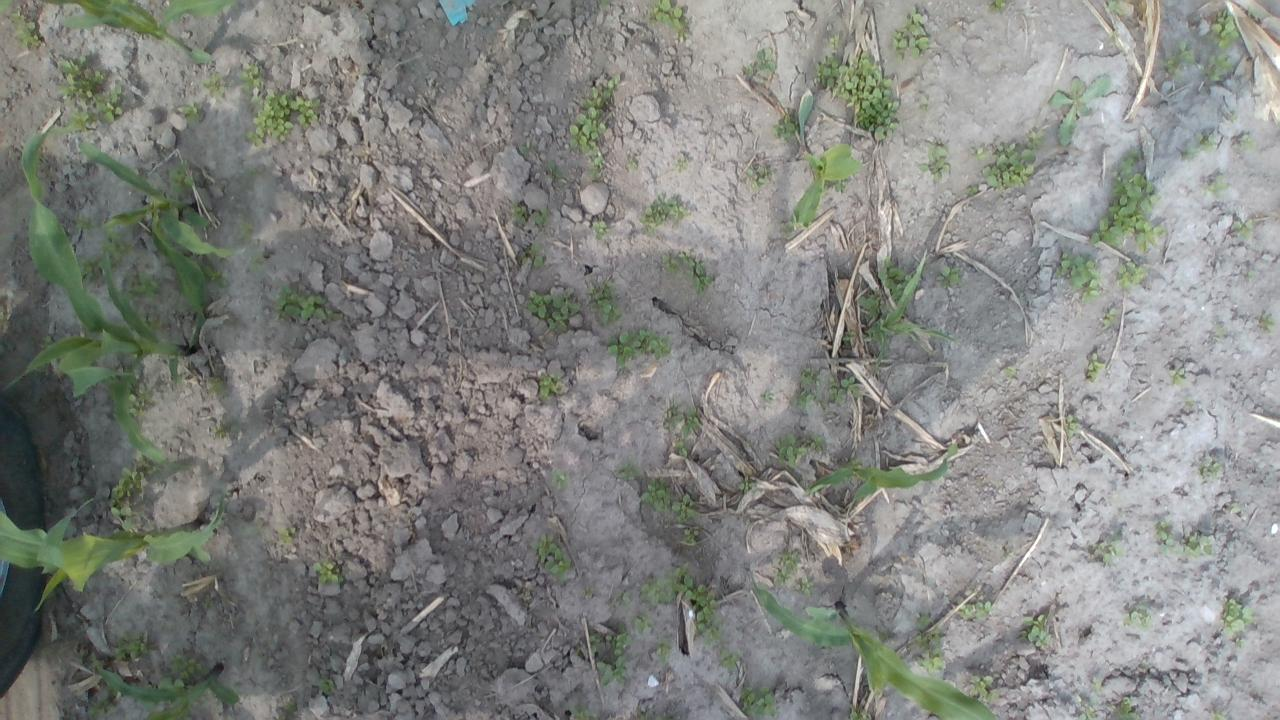Maize: (9, 120, 192, 475), (748, 577, 998, 720), (75, 142, 246, 339), (0, 496, 226, 613), (35, 0, 241, 67), (784, 88, 870, 234), (806, 442, 958, 512), (864, 252, 954, 370), (96, 660, 241, 720)
Weeds: (1090, 152, 1168, 255), (814, 50, 900, 143), (50, 54, 106, 132), (1048, 77, 1110, 145), (74, 224, 132, 289), (587, 621, 632, 690), (982, 142, 1040, 193), (242, 92, 296, 146), (681, 575, 722, 646), (1054, 249, 1106, 303), (606, 328, 672, 370), (526, 286, 578, 334), (528, 532, 574, 586), (662, 252, 714, 298), (270, 286, 334, 322), (910, 613, 946, 674), (638, 194, 688, 234), (892, 7, 929, 61), (578, 73, 620, 119), (639, 566, 686, 606), (112, 629, 158, 665), (588, 282, 624, 326), (567, 113, 606, 153), (878, 255, 913, 299), (124, 267, 162, 306), (662, 400, 702, 437), (1218, 597, 1254, 637), (1206, 10, 1241, 50), (110, 466, 146, 503), (740, 685, 779, 719), (917, 142, 951, 180), (648, 0, 688, 32), (236, 62, 265, 105), (774, 432, 808, 466), (10, 10, 39, 49), (641, 478, 672, 514), (94, 85, 124, 122), (796, 366, 822, 408), (166, 654, 208, 680), (1166, 42, 1196, 78), (1116, 259, 1150, 290), (967, 672, 999, 704), (1020, 614, 1049, 648), (827, 375, 863, 402), (774, 550, 799, 588), (1153, 520, 1179, 556), (290, 93, 320, 124), (87, 688, 118, 718), (202, 264, 231, 296), (1179, 534, 1215, 558), (858, 292, 884, 325), (312, 559, 346, 584), (109, 504, 137, 534), (771, 114, 800, 142), (672, 494, 698, 524), (1122, 606, 1152, 632), (958, 600, 993, 622), (1207, 54, 1234, 82), (586, 144, 606, 178), (750, 48, 776, 74), (200, 72, 224, 100), (136, 450, 160, 478), (746, 165, 770, 192), (126, 382, 145, 416), (176, 160, 196, 192), (1094, 540, 1123, 562), (716, 646, 740, 672), (1114, 696, 1140, 720), (538, 372, 560, 400), (206, 420, 238, 439), (180, 102, 202, 129), (1086, 353, 1106, 381), (677, 524, 701, 545), (72, 213, 96, 234), (618, 460, 641, 481), (141, 312, 161, 336), (941, 264, 960, 288), (1199, 462, 1223, 481), (530, 242, 546, 270), (1063, 414, 1080, 440), (632, 614, 654, 634), (237, 219, 257, 241), (1234, 218, 1254, 240), (1208, 175, 1230, 195), (509, 202, 528, 225), (205, 378, 228, 397), (656, 638, 674, 662), (276, 526, 298, 545), (569, 704, 593, 720), (1198, 133, 1218, 152), (534, 206, 552, 226), (1026, 130, 1046, 148), (1105, 0, 1124, 18), (810, 431, 826, 452), (156, 676, 184, 688), (248, 253, 266, 271), (1238, 133, 1256, 151), (1168, 368, 1186, 386), (38, 334, 57, 351), (1078, 704, 1098, 720), (798, 574, 813, 594), (318, 679, 338, 694), (674, 440, 690, 458), (1260, 314, 1276, 332), (546, 158, 561, 176), (988, 0, 1006, 15), (592, 220, 606, 239), (969, 148, 988, 162), (552, 474, 570, 488), (516, 142, 532, 156), (1002, 366, 1018, 380), (850, 709, 870, 720), (1103, 308, 1115, 326), (834, 178, 848, 193), (843, 330, 858, 344), (674, 159, 690, 172), (738, 480, 752, 494), (1181, 148, 1197, 160), (828, 34, 839, 49), (1, 0, 12, 15), (284, 701, 298, 712), (1210, 710, 1225, 720), (1214, 326, 1226, 338), (760, 390, 774, 400), (622, 592, 632, 606), (104, 374, 118, 384), (1229, 503, 1241, 514), (245, 167, 258, 177), (964, 186, 978, 195), (627, 158, 637, 170), (1092, 678, 1102, 690), (1184, 398, 1195, 408), (920, 102, 929, 112), (1235, 638, 1244, 648), (223, 488, 232, 497), (742, 66, 751, 74), (1247, 271, 1256, 278), (598, 0, 609, 5)
